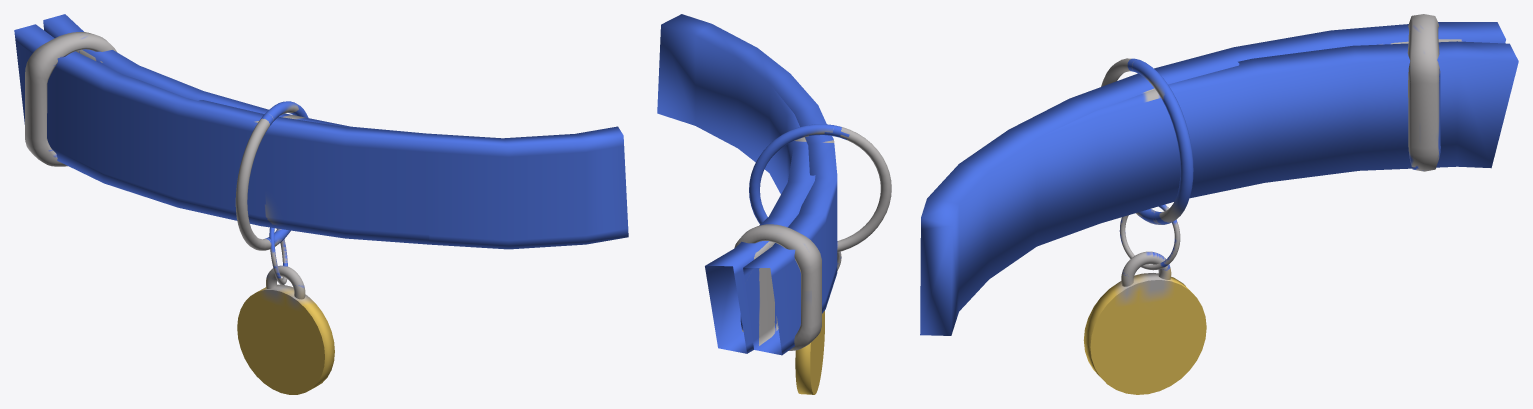
The model's file is catcollar3.fbx.
3 renders of one model, left to right at view 1: azimuth 30°, elevation 25°; view 2: azimuth 150°, elevation 25°; view 3: azimuth 270°, elevation 25°, orthographic. The views are drawn at different scales.
Parts seen in each view (by area): view 1: Circle; view 2: Circle; view 3: Circle.
Part boxes in pixels (x1,y1,x2,y2): Circle: [14, 14, 628, 394]; Circle: [657, 14, 891, 394]; Circle: [920, 14, 1518, 394].
Bounding box in the file's own units: 92.13 × 65.93 × 112.
